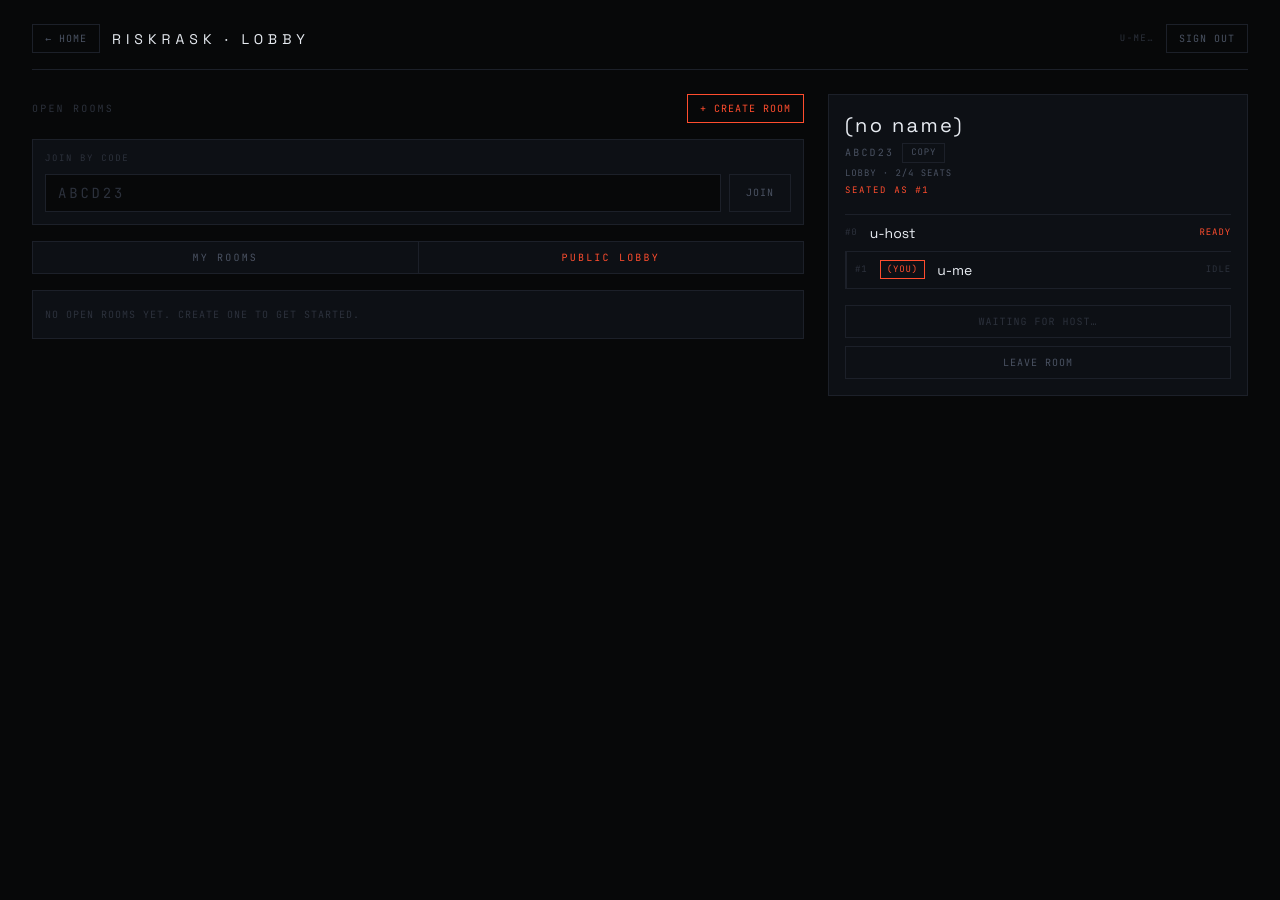
Scenario: Lobby › opens non-solo ConfirmDialog copy when ≥2 humans are seated
What coordinates should you click on to do the following:
click the button with test id "leave-btn"
I would click on:
 (1038, 362)
Its box is [845,346,1231,378].
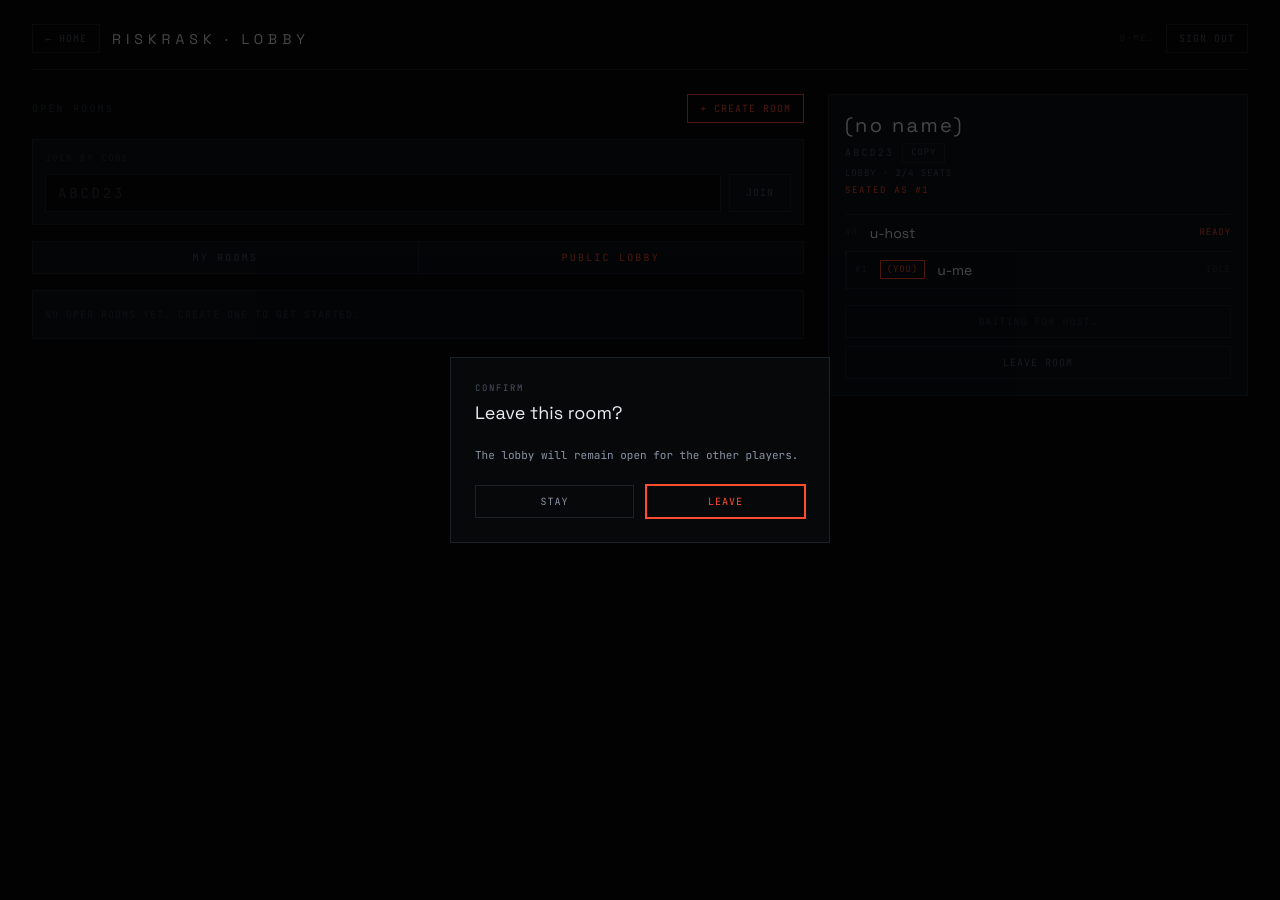
Expected: the element with test id "confirm-dialog" is shown
Expected: the heading "Leave this room?" is shown, [475,401,622,424]
Expected: the button with test id "confirm-dialog-confirm" reads "Leave", [646,485,805,518]
